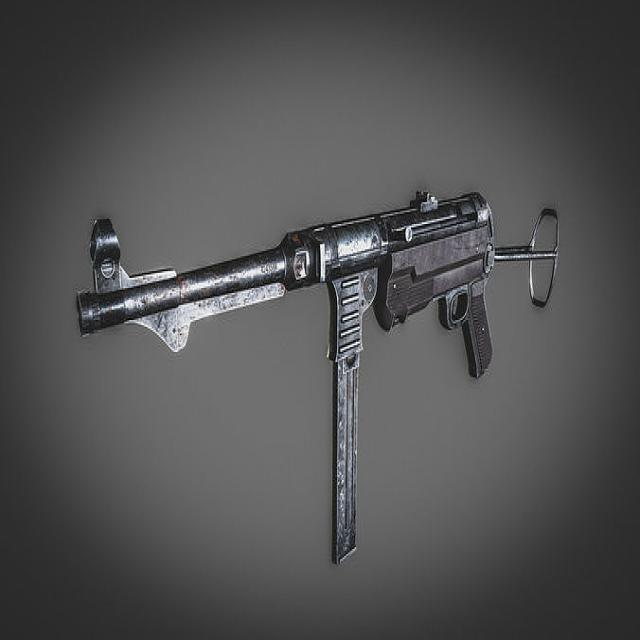SMG: (74, 190, 560, 566)
